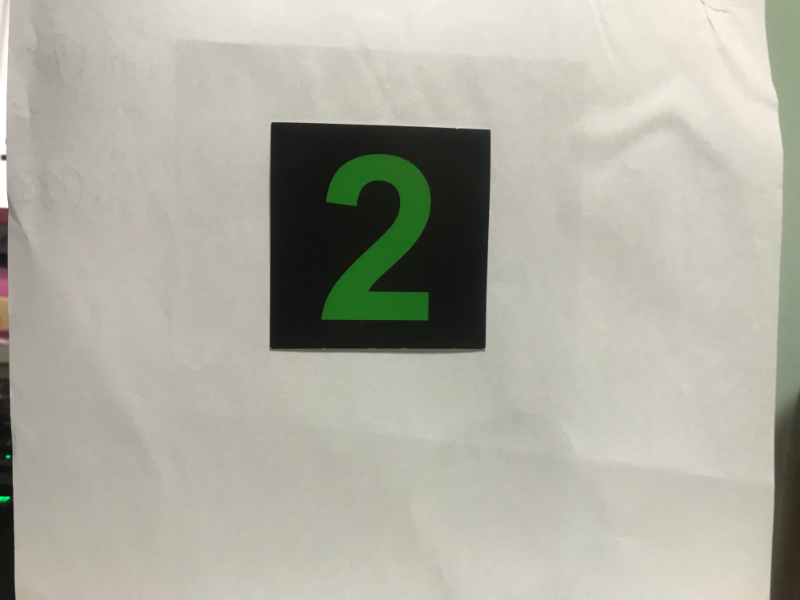Two-7: (277, 132, 484, 346)
